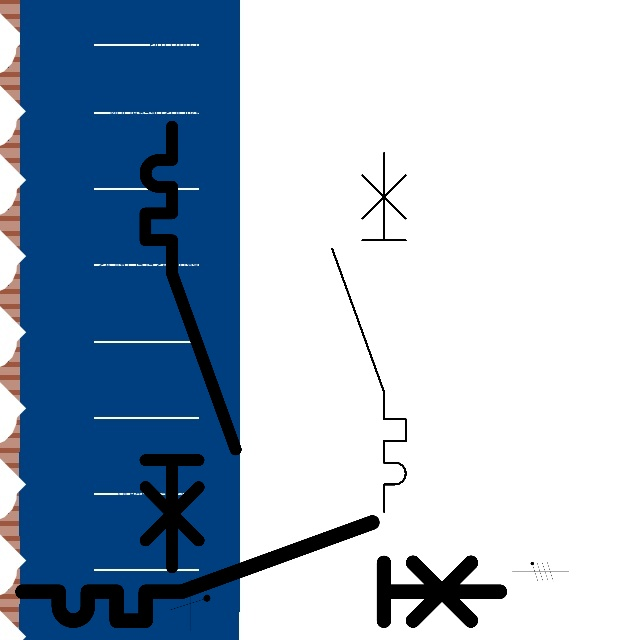interruptor_termomagnetico: (10, 510, 512, 633), (134, 115, 247, 578), (323, 144, 415, 521)
